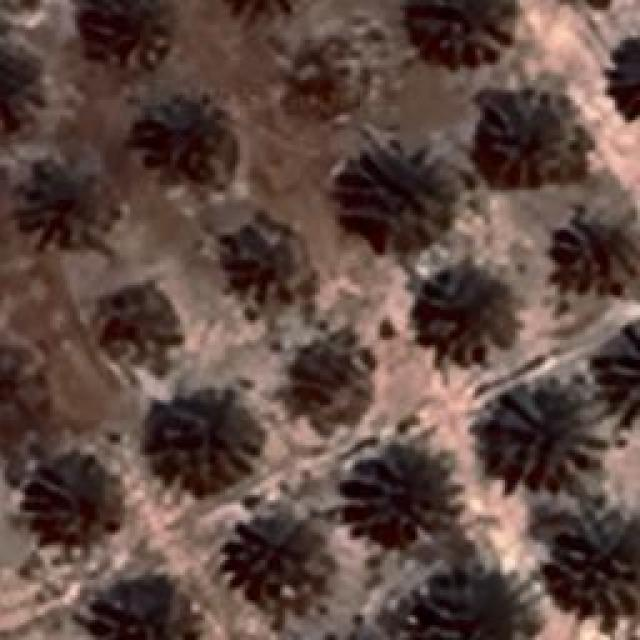PalmTree: (338, 140, 452, 250), (492, 388, 610, 490), (544, 507, 638, 625), (350, 442, 460, 532), (231, 511, 331, 609), (394, 562, 518, 640), (32, 451, 128, 549), (152, 398, 256, 482), (418, 268, 512, 358), (484, 98, 578, 182), (16, 158, 109, 242), (98, 282, 182, 366), (142, 90, 225, 175), (286, 338, 369, 422), (557, 206, 640, 288), (410, 0, 515, 62), (80, 0, 175, 65), (86, 582, 186, 640), (226, 228, 302, 302), (0, 332, 50, 434), (0, 32, 44, 132), (605, 326, 640, 416), (607, 35, 640, 125), (217, 0, 312, 27)
